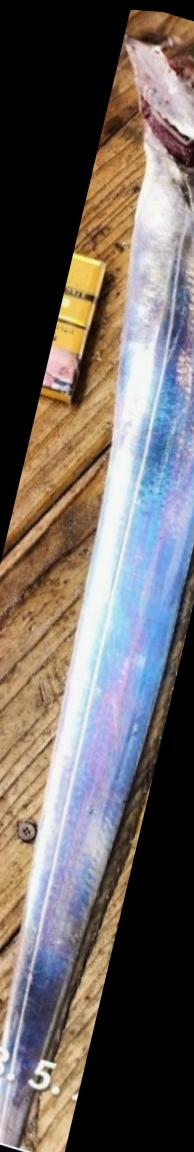fish: (0, 35, 194, 1147)
